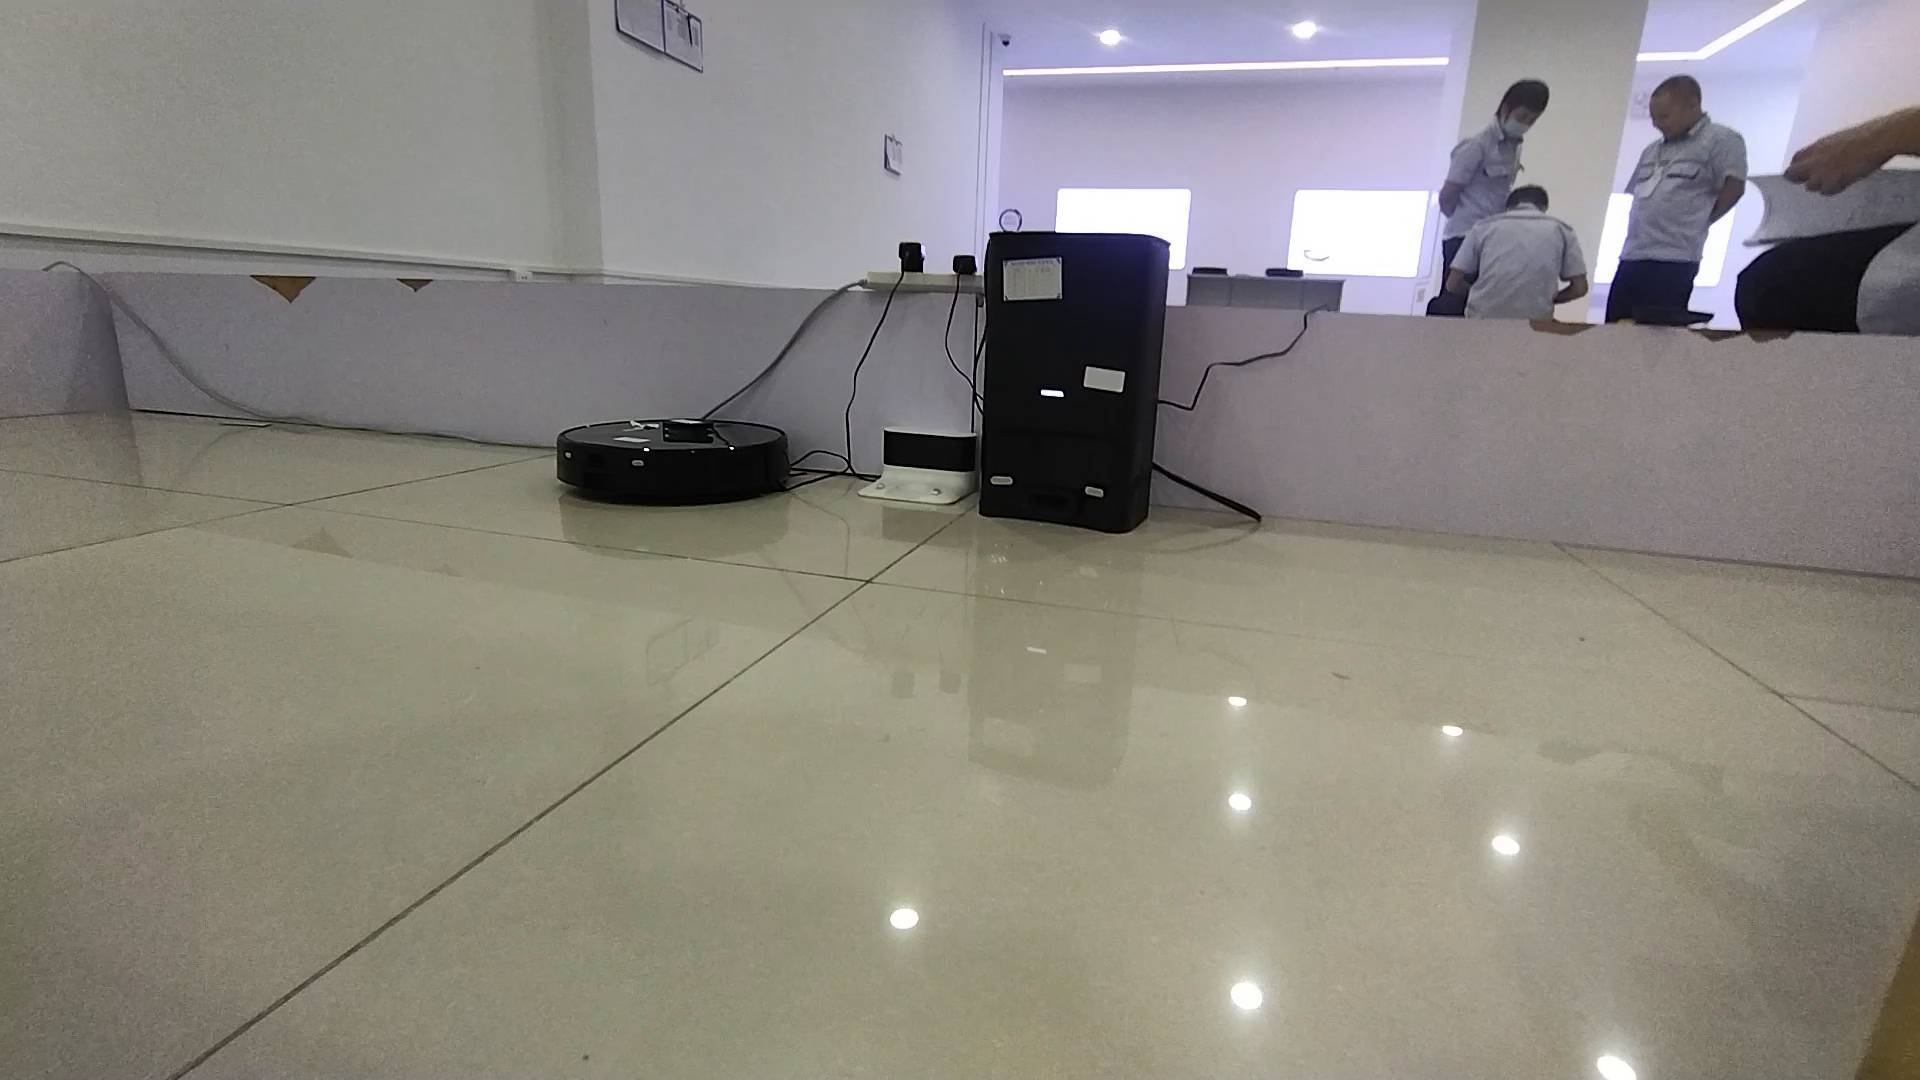dust collecting barrel: (986, 229, 1174, 535)
recharge seat: (861, 427, 982, 504)
